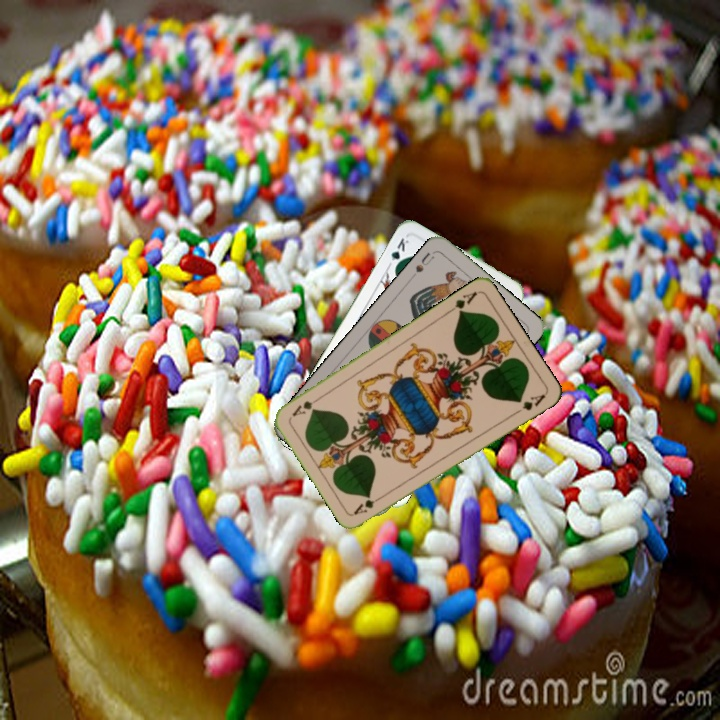GA: (444, 287, 480, 317), (350, 490, 387, 517)
GK: (387, 234, 412, 272)
SU: (411, 247, 438, 275)
